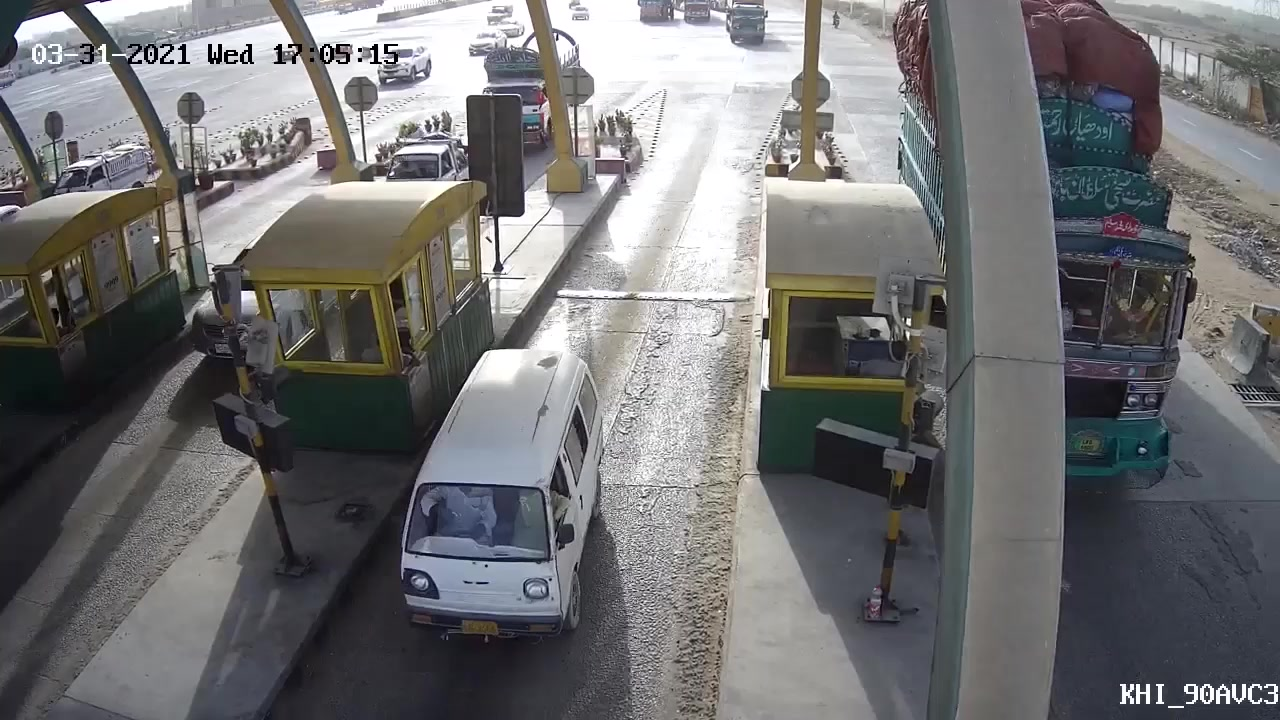F1: (396, 346, 618, 660)
